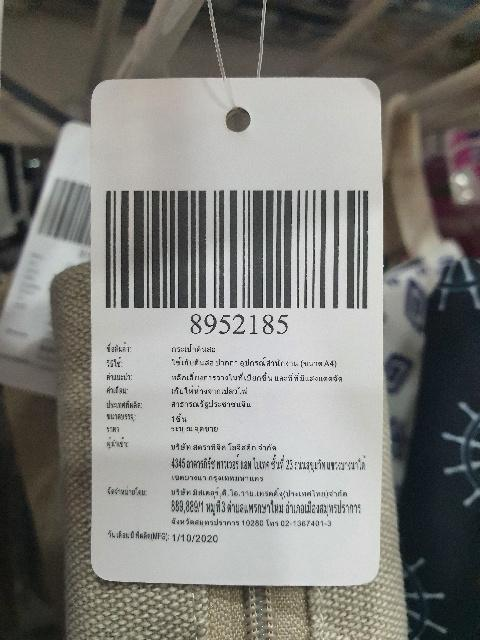Barcode: (98, 181, 378, 334)
